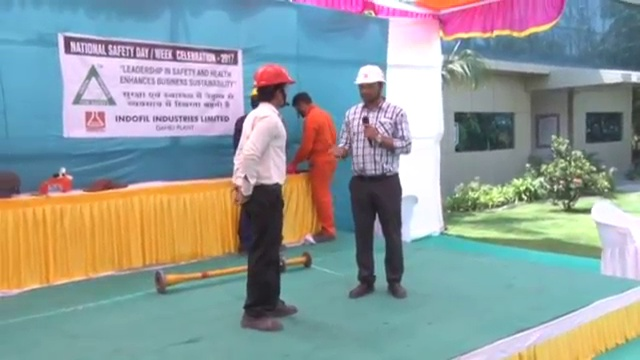helmet: (252, 63, 296, 88), (352, 62, 389, 86)
helmet_off: (290, 90, 315, 118)
helmet_on: (251, 61, 297, 110), (350, 61, 389, 105)
person: (230, 61, 299, 334), (333, 61, 410, 301), (291, 90, 339, 244)
